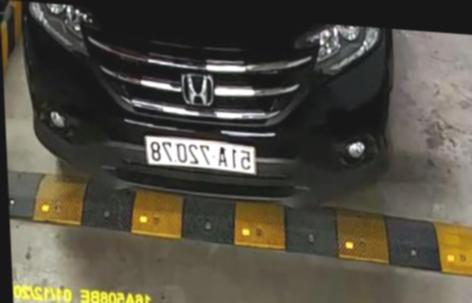License_Plate: (140, 126, 260, 182)
